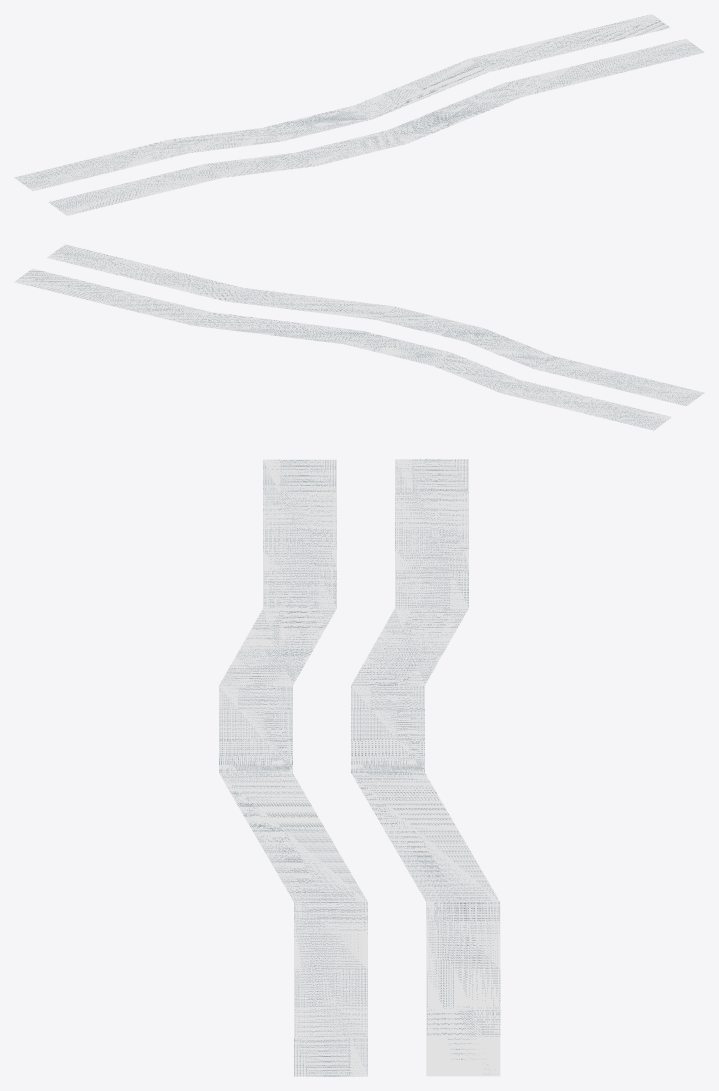
The model's file is Tunnel.dae.
3 renders of one model, top to bottom at view 1: azimuth 30°, elevation 25°; view 2: azimuth 150°, elevation 25°; view 3: azimuth 270°, elevation 25°, orthographic. The views are drawn at different scales.
Visible parts, largest first — view 1: group_5 (×2), group_1 (×2), group_4 (×2), group_3 (×2), group_2 (×2); view 2: group_5 (×2), group_1 (×2), group_4 (×2), group_3 (×2), group_2 (×2); view 3: group_5 (×2), group_1 (×2), group_4 (×2), group_3 (×2), group_2 (×2).
Part boxes in pixels (bbox=[...]): group_5 (×2): bbox=[470, 14, 704, 96]; group_1 (×2): bbox=[14, 139, 222, 215]; group_4 (×2): bbox=[353, 58, 521, 143]; group_3 (×2): bbox=[262, 105, 405, 166]; group_2 (×2): bbox=[170, 128, 314, 177]; group_5 (×2): bbox=[14, 244, 242, 325]; group_1 (×2): bbox=[501, 355, 704, 430]; group_4 (×2): bbox=[193, 288, 394, 344]; group_3 (×2): bbox=[344, 306, 483, 365]; group_2 (×2): bbox=[433, 328, 551, 393]; group_5 (×2): bbox=[294, 902, 500, 1076]; group_1 (×2): bbox=[263, 459, 468, 608]; group_4 (×2): bbox=[219, 773, 499, 902]; group_3 (×2): bbox=[219, 685, 424, 773]; group_2 (×2): bbox=[219, 608, 468, 685].
Size of the model in its own units: 2922 by 563 by 0.
